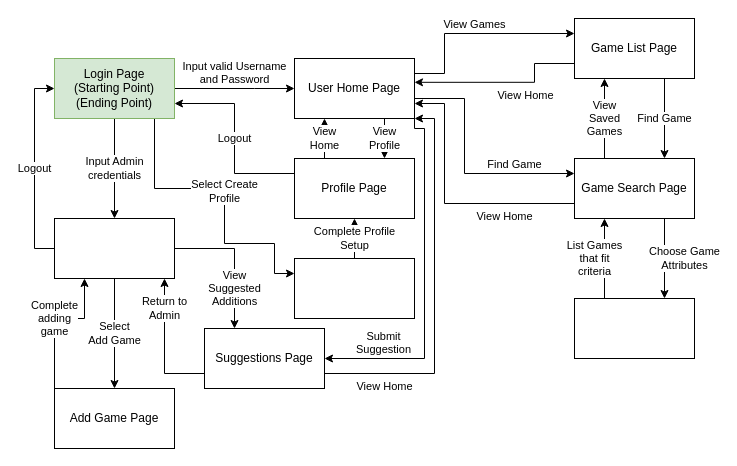
The diagram is 737 pixels wide and 466 high, and some of its shapes have lost their labels. The box of each missing label's shape, as (x1, y1, x2, y2) in pixels:
Admin Page: (54, 218, 174, 278)
Create Profile Page: (294, 258, 414, 318)
Game Filter Page: (574, 298, 694, 358)
